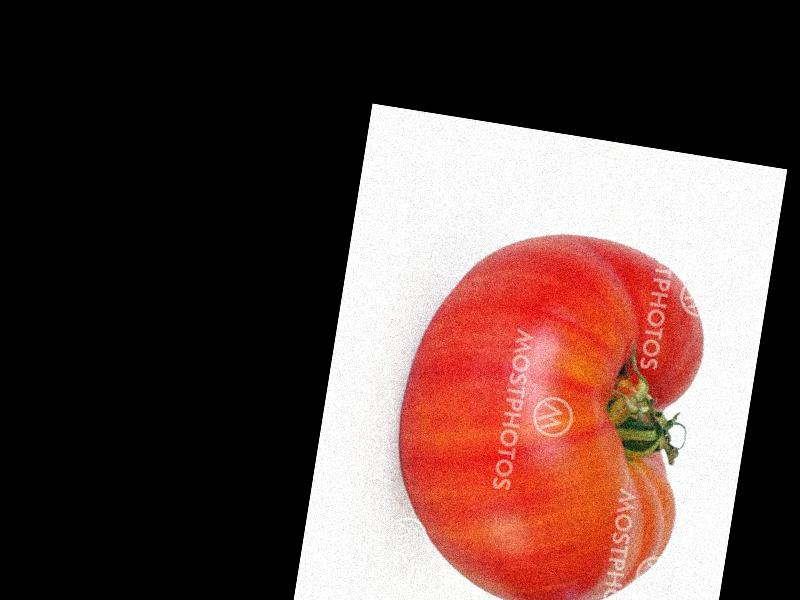Tomato: (375, 213, 718, 600)
